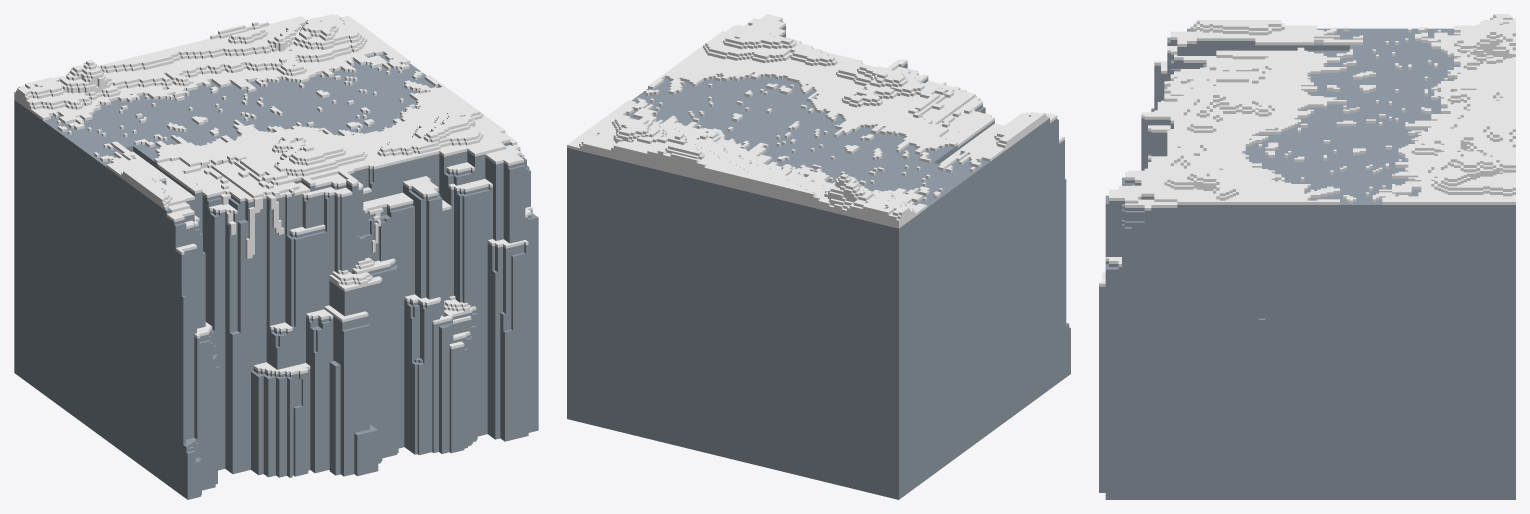
Rendered from factory4.1-11.obj.
3 views of the same model, side by side, from view 1: azimuth 30°, elevation 25°; view 2: azimuth 150°, elevation 25°; view 3: azimuth 270°, elevation 25° (orthographic). The views are drawn at different scales.
Bounding box in the file's own units: 25.6 × 22.2 × 25.6.
Materials: 1 (1 with a texture image).
